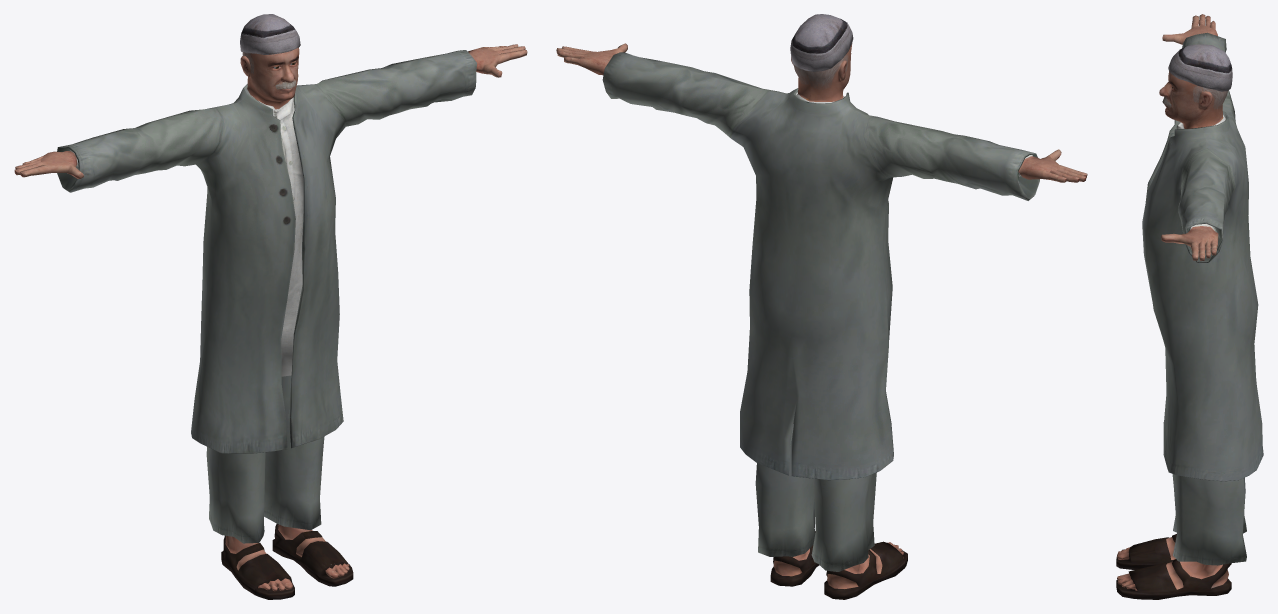
Rendered from Mayor2Shape.obj.
3 views of the same model, side by side, from view 1: azimuth 30°, elevation 25°; view 2: azimuth 150°, elevation 25°; view 3: azimuth 270°, elevation 25° (orthographic). The views are drawn at different scales.
Parts seen in each view (by area): view 1: Mayor2 AccumulationRoot CharacterRoot; view 2: Mayor2 AccumulationRoot CharacterRoot; view 3: Mayor2 AccumulationRoot CharacterRoot.
Boxes of the visible parts, left/top/right/bottom form: Mayor2 AccumulationRoot CharacterRoot: left=14, top=14, right=527, bottom=599; Mayor2 AccumulationRoot CharacterRoot: left=556, top=14, right=1087, bottom=599; Mayor2 AccumulationRoot CharacterRoot: left=1116, top=14, right=1263, bottom=599.
Size of the model in its own units: 181 by 184 by 46.39.
Materials: 5 (4 with a texture image).
